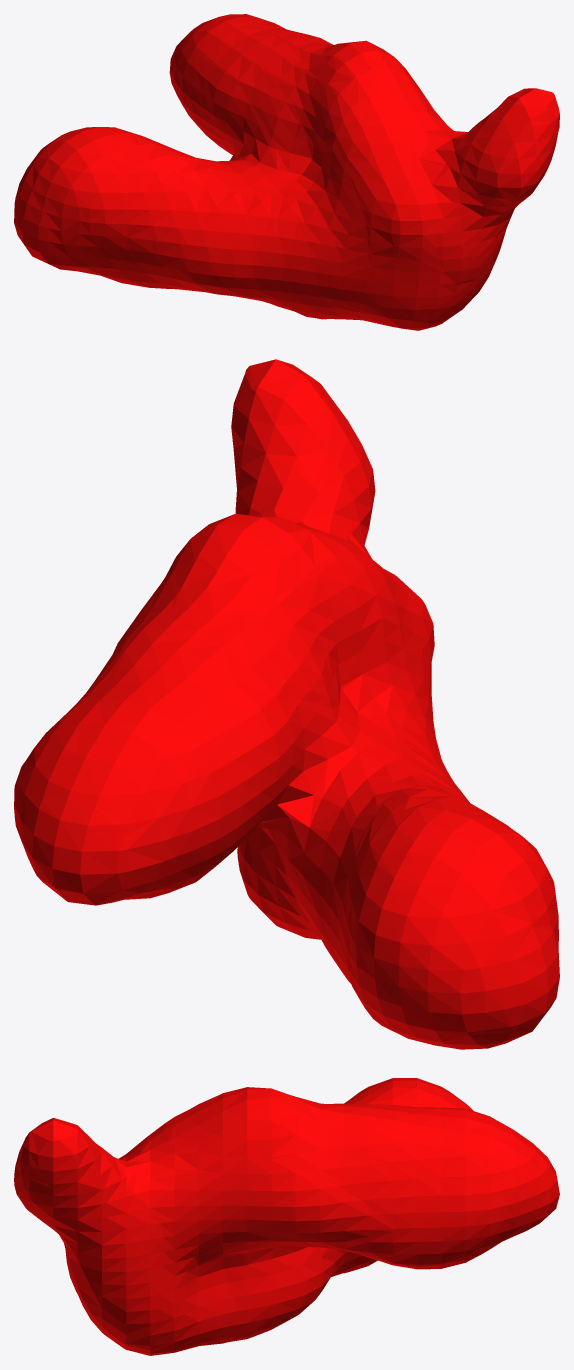
The model's file is gnsA_coarse.dae.
3 views of the same model, one above another, from view 1: azimuth 30°, elevation 25°; view 2: azimuth 150°, elevation 25°; view 3: azimuth 270°, elevation 25° (orthographic). The views are drawn at different scales.
Parts seen in each view (by area): view 1: gnsA; view 2: gnsA; view 3: gnsA.
Part boxes in pixels (bbox=[...]): gnsA: bbox=[14, 14, 559, 330]; gnsA: bbox=[14, 359, 559, 1049]; gnsA: bbox=[14, 1078, 559, 1355].
Size of the model in its own units: 40.42 by 27.51 by 49.56.
